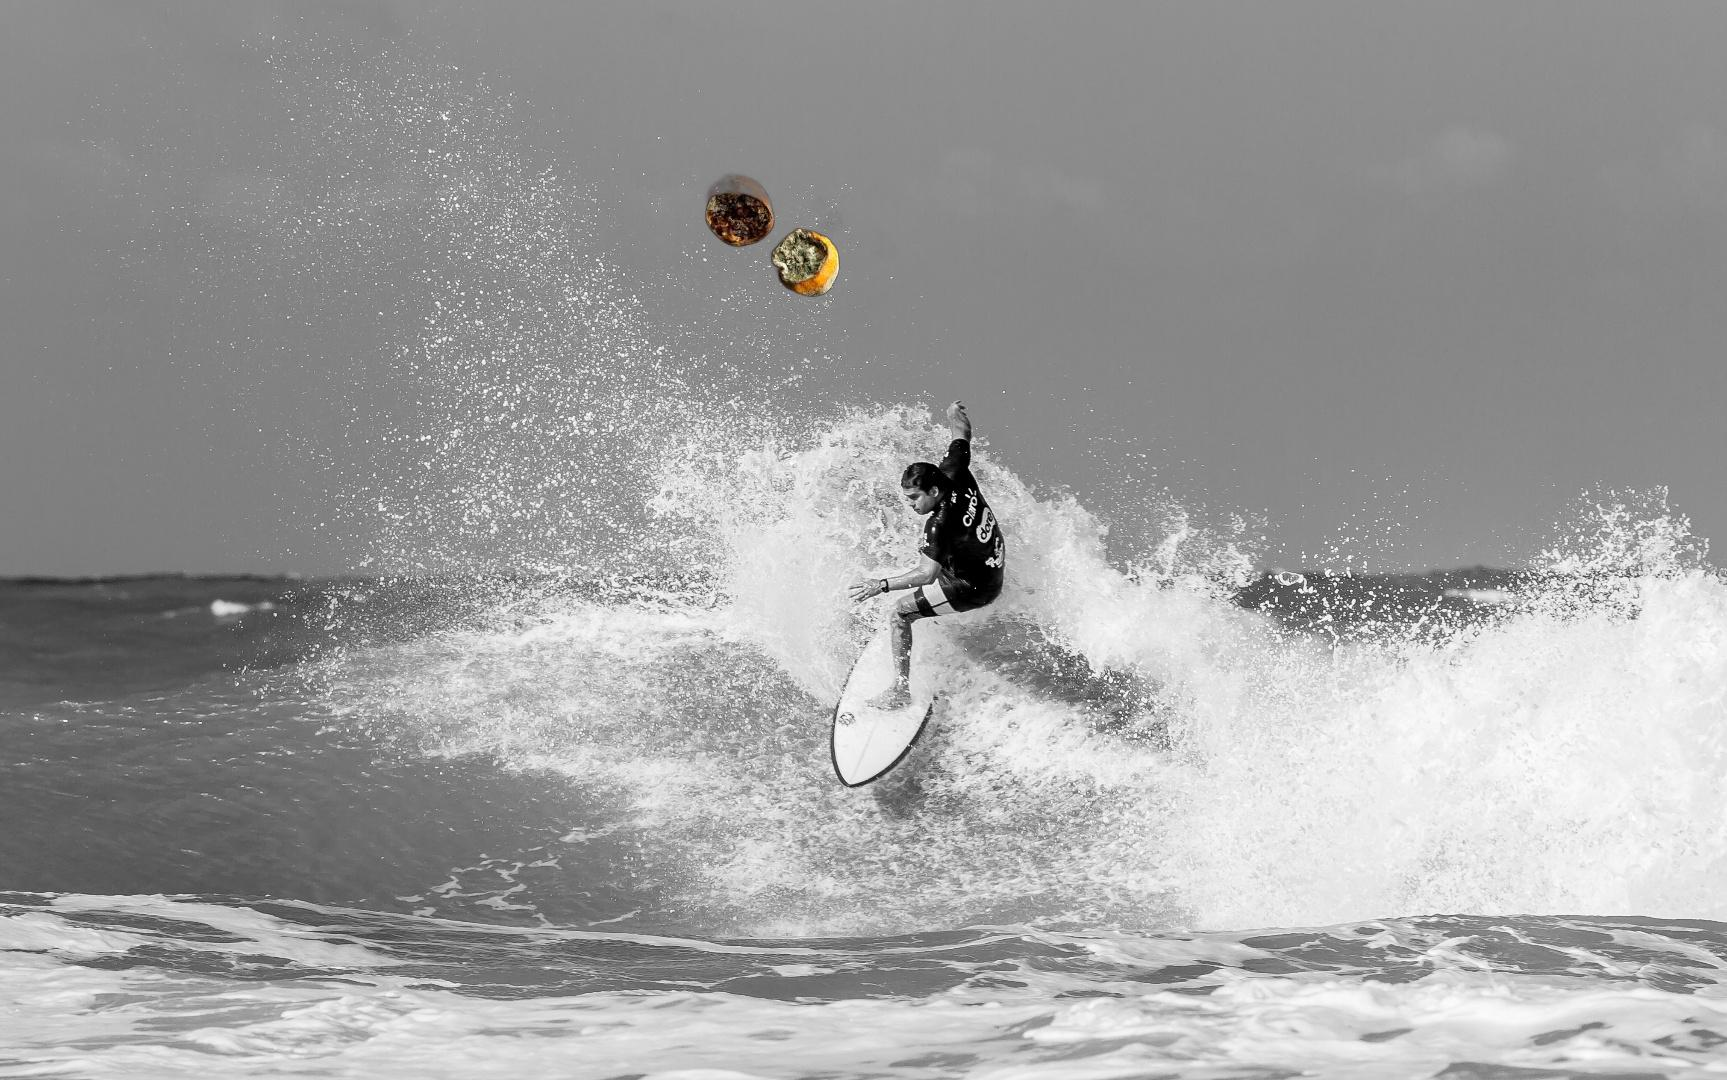biological: (635, 144, 910, 304)
